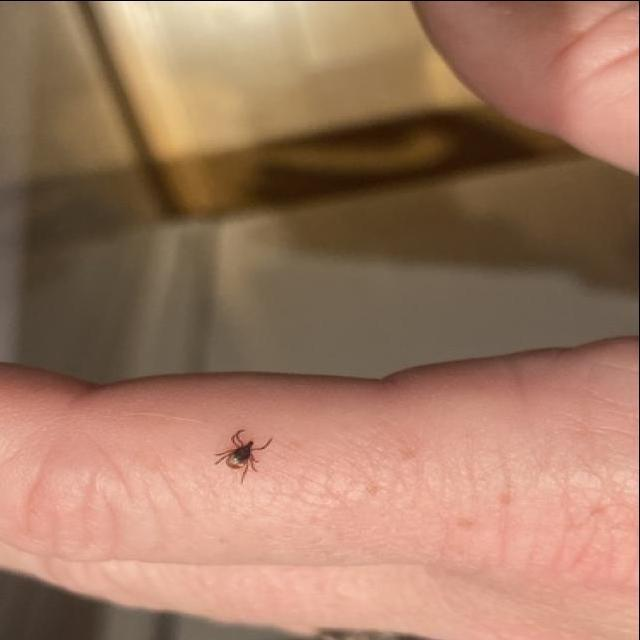Ixodes Ricinus-F: (213, 426, 275, 486)
